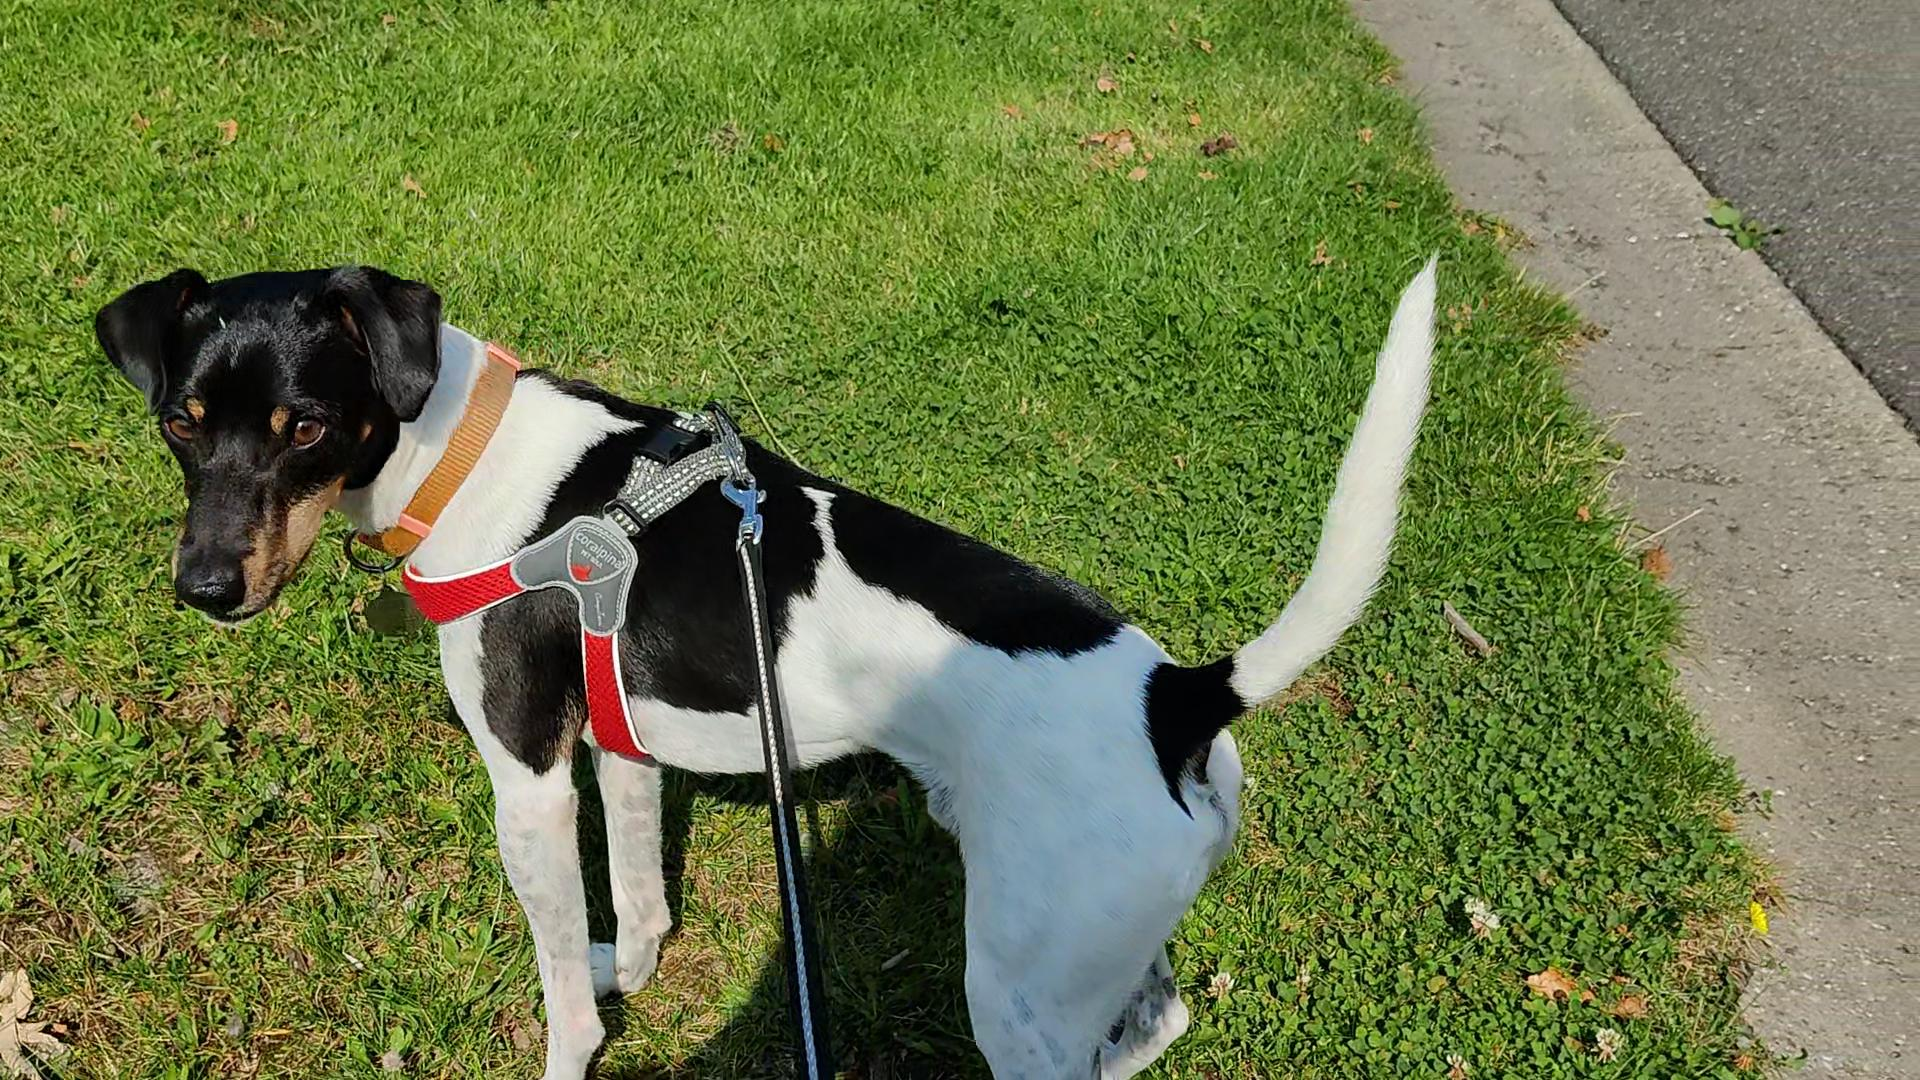Dog: (84, 239, 1445, 1079)
